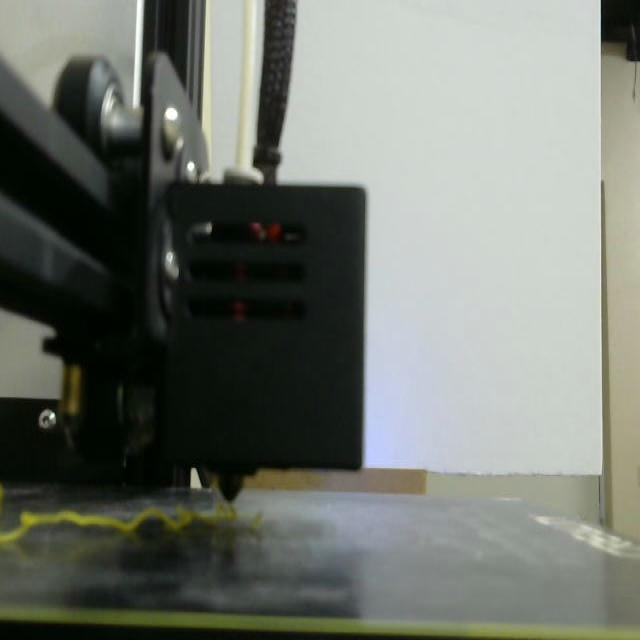spaghetti: (0, 505, 238, 544), (238, 492, 266, 536)
